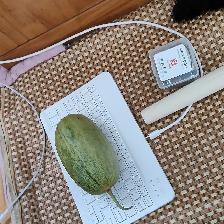gua: (53, 114, 104, 196)
